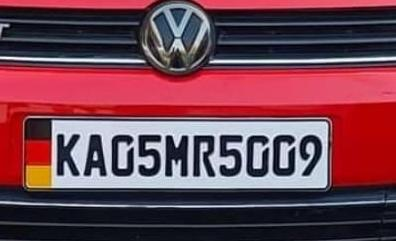0: (107, 131, 136, 177), (244, 130, 271, 179), (272, 130, 299, 177)
5: (216, 131, 245, 177), (136, 131, 163, 178)
9: (296, 131, 325, 181)
A: (82, 131, 109, 181)
K: (54, 130, 81, 179)
M: (163, 132, 190, 180)
R: (190, 132, 218, 180)
